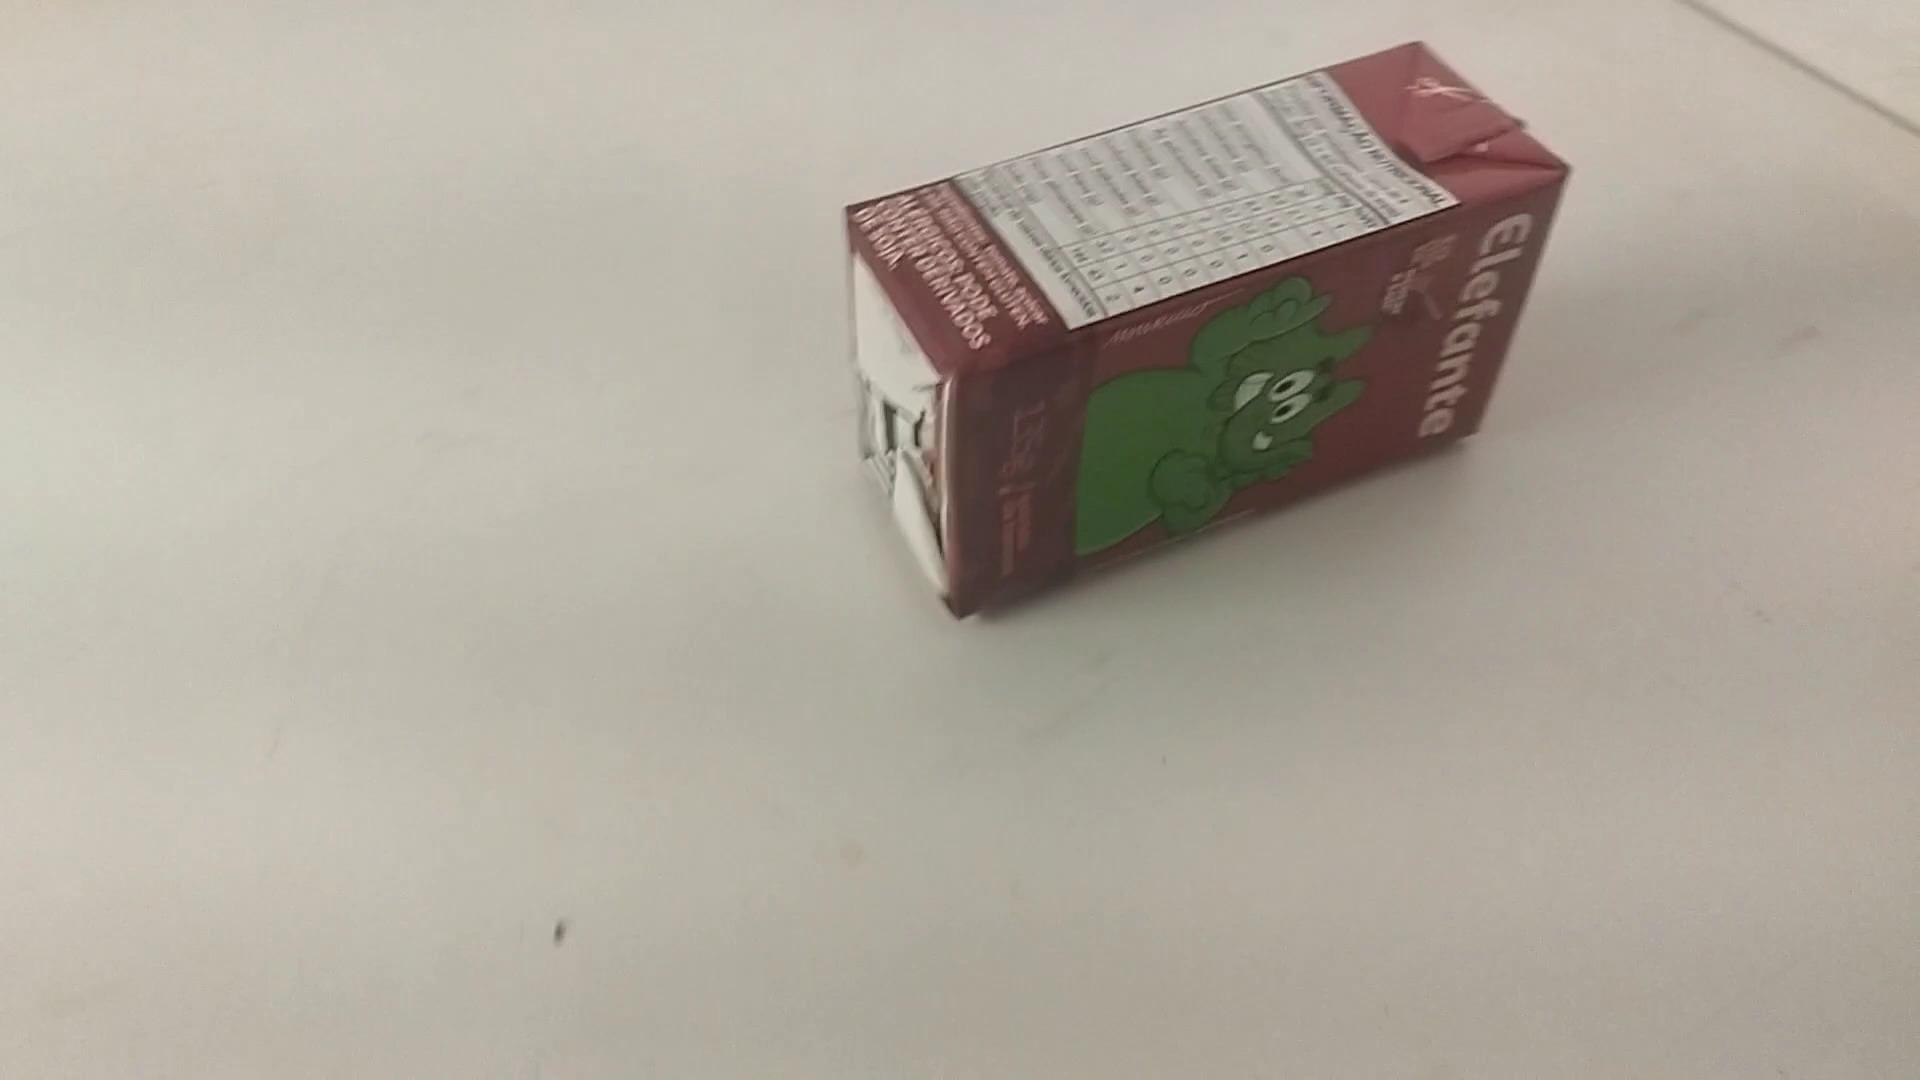tomate: (852, 37, 1572, 625)
